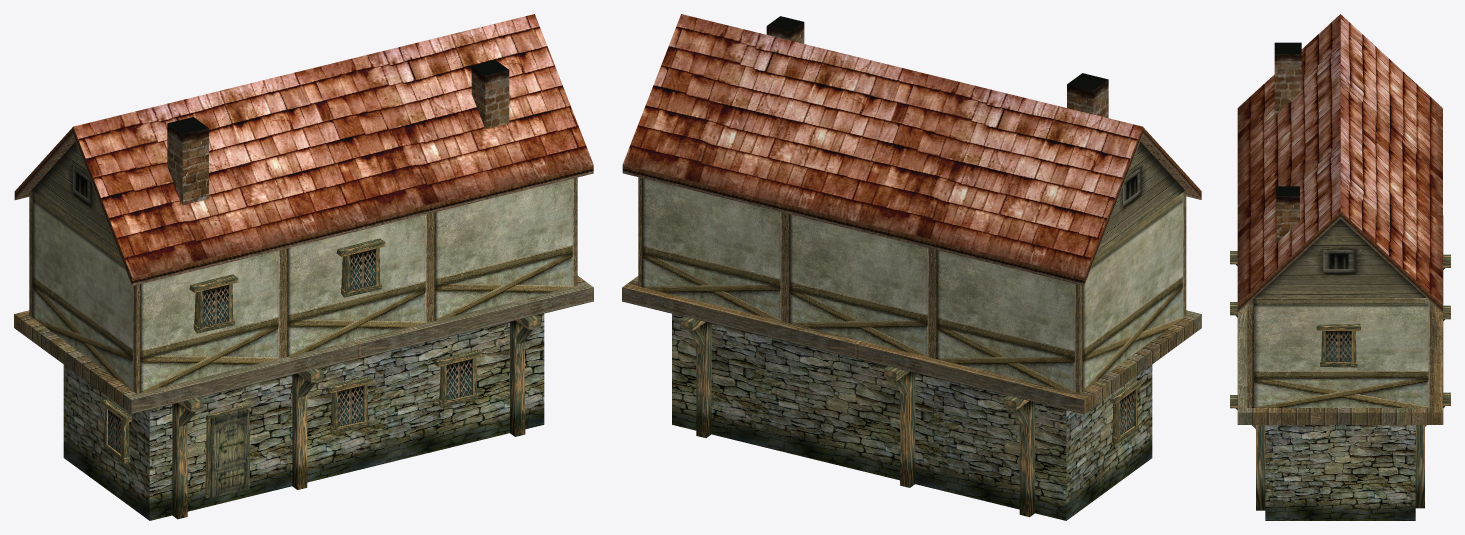
3 views of the same model, side by side, from view 1: azimuth 30°, elevation 25°; view 2: azimuth 150°, elevation 25°; view 3: azimuth 270°, elevation 25° (orthographic). The views are drawn at different scales.
Parts seen in each view (by area): view 1: nh2; view 2: nh2; view 3: nh2.
Boxes of the visible parts, x1,y1,x2,y2 form: nh2: (14,14,593,520); nh2: (622,14,1201,520); nh2: (1230,14,1450,520).
Bounding box in the file's own units: 13 × 10.03 × 6.15.
15 materials, 15 textured.
